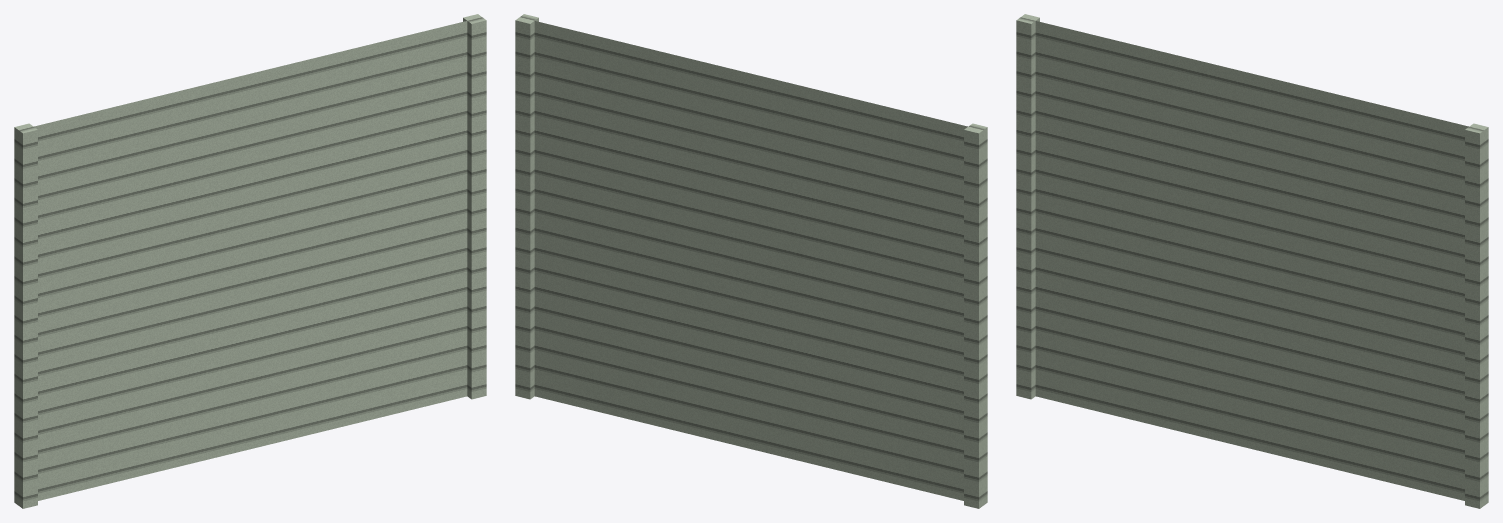
The model's file is fence_industrial_chainlink_razor.glb.
The picture shows the model from 3 angles, left to right: view 1: azimuth 30°, elevation 25°; view 2: azimuth 150°, elevation 25°; view 3: azimuth 330°, elevation 25°; orthographic projection.
Visible parts, largest first — view 1: fence_industrial_chainlink_razor-col; view 2: fence_industrial_chainlink_razor-col; view 3: fence_industrial_chainlink_razor-col.
Boxes of the visible parts, left/top/right/bottom form: fence_industrial_chainlink_razor-col: left=14, top=14, right=486, bottom=508; fence_industrial_chainlink_razor-col: left=515, top=14, right=987, bottom=508; fence_industrial_chainlink_razor-col: left=1016, top=14, right=1488, bottom=508.
Size of the model in its own units: 3.1 by 2.4 by 0.1.
Materials: 1 (1 with a texture image).
